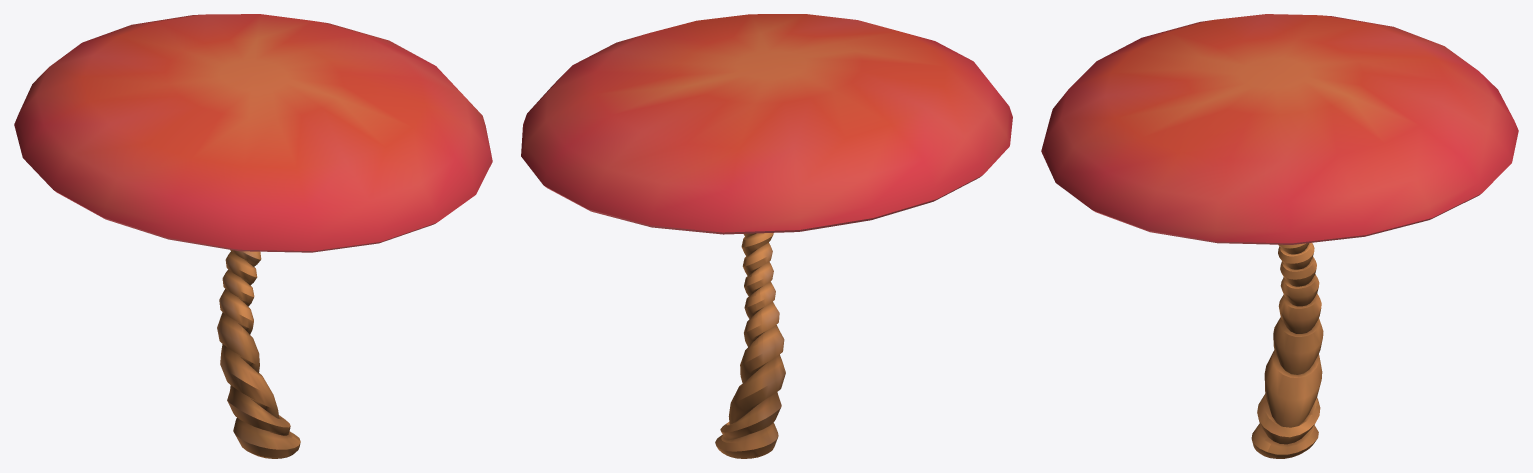
File: Mushroom3.fbx
The picture shows the model from 3 angles, left to right: view 1: azimuth 30°, elevation 25°; view 2: azimuth 150°, elevation 25°; view 3: azimuth 270°, elevation 25°; orthographic projection. The views are drawn at different scales.
Parts seen in each view (by area): view 1: Mushroom1; view 2: Mushroom1; view 3: Mushroom1.
Part boxes in pixels (bbox=[...]): Mushroom1: bbox=[14, 14, 492, 458]; Mushroom1: bbox=[521, 14, 1012, 458]; Mushroom1: bbox=[1041, 14, 1518, 458].
Size of the model in its own units: 2095 by 1852 by 2183.
